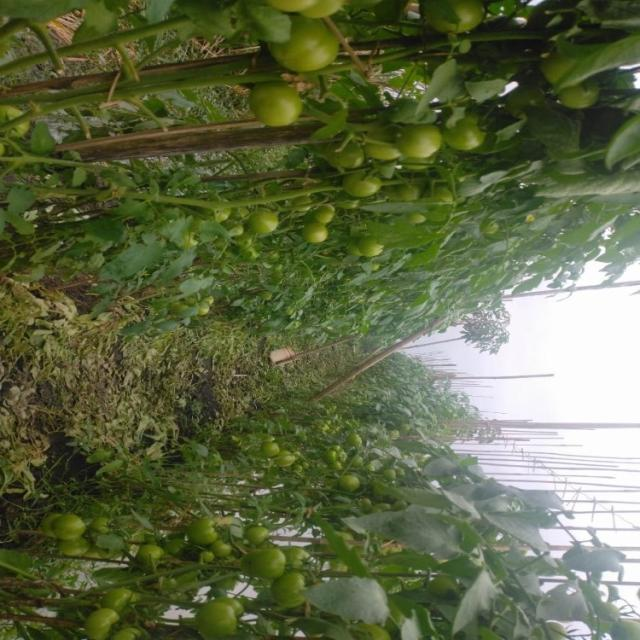tomato: (271, 19, 357, 83), (244, 85, 310, 135), (195, 595, 248, 640), (420, 1, 491, 33), (399, 125, 453, 162), (450, 115, 493, 156), (265, 1, 341, 24), (250, 201, 289, 245), (250, 546, 292, 585), (274, 574, 310, 617), (47, 505, 88, 541), (351, 167, 389, 204), (1, 97, 30, 145), (559, 82, 599, 111), (303, 224, 342, 251), (87, 608, 120, 638), (107, 584, 142, 610), (61, 534, 91, 562), (189, 517, 217, 544), (214, 536, 240, 564), (265, 444, 291, 471), (293, 550, 318, 577), (343, 430, 368, 455), (484, 218, 507, 245), (361, 142, 392, 162), (215, 198, 239, 222), (199, 545, 224, 568), (113, 624, 147, 640), (329, 449, 346, 480), (247, 526, 268, 549), (317, 203, 336, 228), (344, 475, 364, 498), (141, 543, 161, 564), (365, 242, 391, 255)
